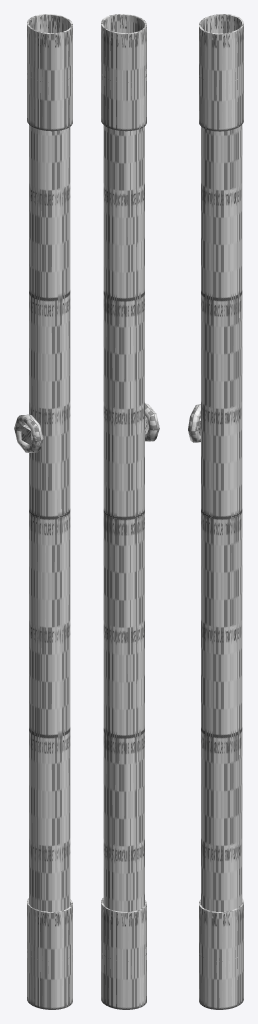
File: Pipe(small and thin).fbx
The picture shows the model from 3 angles, left to right: view 1: azimuth 30°, elevation 25°; view 2: azimuth 210°, elevation 25°; view 3: azimuth 330°, elevation 25°; orthographic projection.
Parts seen in each view (by area): view 1: Pipe_small_and_thin_, Pipe_Ring_wall__1, Pipe_Ring_wall_, valve, PipeBlock; view 2: Pipe_small_and_thin_, Pipe_Ring_wall__1, Pipe_Ring_wall_, valve; view 3: Pipe_small_and_thin_, Pipe_Ring_wall__1, Pipe_Ring_wall_, valve.
Boxes of the visible parts, x1=… form: Pipe_small_and_thin_: x1=29, y1=125, x2=70, y2=911; Pipe_Ring_wall__1: x1=27, y1=14, x2=72, y2=131; Pipe_Ring_wall_: x1=27, y1=898, x2=72, y2=1009; valve: x1=14, y1=414, x2=43, y2=452; PipeBlock: x1=21, y1=424, x2=32, y2=444; Pipe_small_and_thin_: x1=103, y1=125, x2=144, y2=911; Pipe_Ring_wall__1: x1=101, y1=14, x2=146, y2=131; Pipe_Ring_wall_: x1=101, y1=897, x2=146, y2=1009; valve: x1=145, y1=403, x2=159, y2=441; Pipe_small_and_thin_: x1=201, y1=125, x2=242, y2=911; Pipe_Ring_wall__1: x1=199, y1=14, x2=243, y2=131; Pipe_Ring_wall_: x1=199, y1=898, x2=243, y2=1009; valve: x1=188, y1=404, x2=200, y2=442.
Size of the model in its own units: 20.61 by 409 by 18.53.
